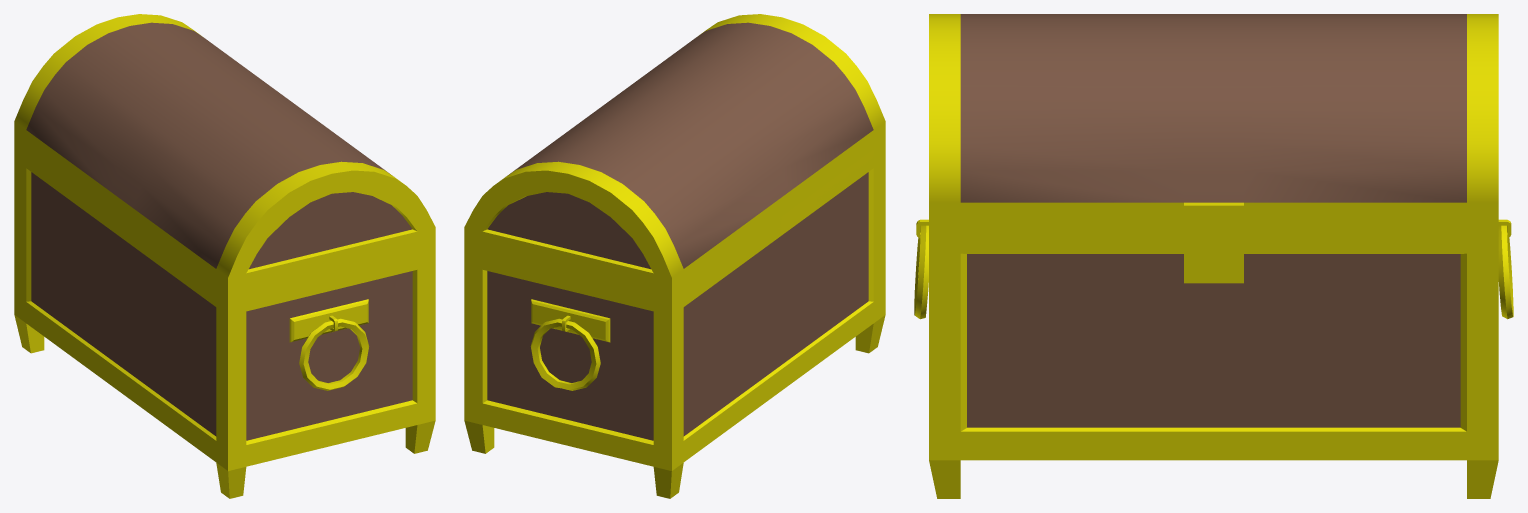
The model's file is Treasure_Chest.fbx.
The picture shows the model from 3 angles, left to right: view 1: azimuth 30°, elevation 25°; view 2: azimuth 150°, elevation 25°; view 3: azimuth 270°, elevation 25°; orthographic projection. The views are drawn at different scales.
Visible parts, largest first — view 1: Chest_Base, Top_Lid, R_Plate, R_Handle; view 2: Chest_Base, Top_Lid, L_Handle, L_Plate; view 3: Chest_Base, Top_Lid, L_Handle, R_Handle.
Boxes of the visible parts, x1=… form: Chest_Base: x1=14, y1=140, x2=435, y2=498; Top_Lid: x1=14, y1=14, x2=435, y2=296; R_Plate: x1=289, y1=299, x2=368, y2=342; R_Handle: x1=299, y1=318, x2=369, y2=390; Chest_Base: x1=464, y1=140, x2=885, y2=498; Top_Lid: x1=464, y1=14, x2=885, y2=296; L_Handle: x1=530, y1=318, x2=600, y2=390; L_Plate: x1=531, y1=299, x2=610, y2=342; Chest_Base: x1=929, y1=228, x2=1498, y2=498; Top_Lid: x1=929, y1=14, x2=1498, y2=231; L_Handle: x1=1498, y1=225, x2=1513, y2=319; R_Handle: x1=914, y1=225, x2=928, y2=319.
Size of the model in its own units: 103 by 141 by 189.
